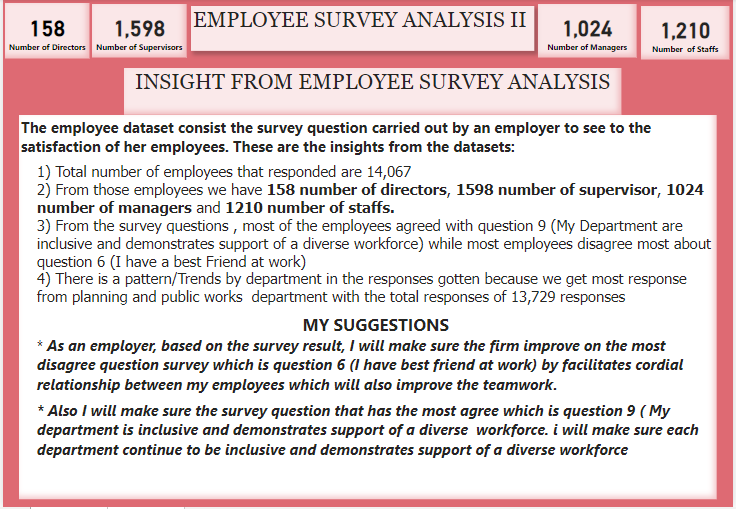

The dashboard page shown, as its layout file describes it:
{"tool":"powerbi","page":{"name":"Page 2","canvas":[1840,1280],"ordinal":1},"visuals":[{"type":"textbox","box":[472.5,17.5,865,112.5],"z":0},{"type":"card","fields":{"Values":["CountNonNull(HR Survey Reponses.Supervisor)"]},"box":[225,12.5,237.5,135],"z":1000},{"type":"card","fields":{"Values":["CountNonNull(HR Survey Reponses.Director)"]},"box":[5,10,212.5,140],"z":2000},{"type":"card","fields":{"Values":["CountNonNull(HR Survey Reponses.Manager)"]},"box":[1347.5,12.5,247.5,135],"z":3000},{"type":"card","fields":{"Values":["CountNonNull(HR Survey Reponses.Staff)"]},"box":[1607.5,17.5,222.5,135],"z":4000},{"type":"textbox","box":[305,175,1252.5,117.5],"z":5000},{"type":"textbox","box":[40,292.5,1757.5,967.5],"z":6000}]}

Visuals, with their boxes in screenshot pixels (x1, y1, x2, y2), scaled from the page's 1840x1280 canvas onto the 736x509 screenshot:
textbox: [x1=189, y1=7, x2=535, y2=52]
card - CountNonNull(HR Survey Reponses.Supervisor): [x1=90, y1=5, x2=185, y2=59]
card - CountNonNull(HR Survey Reponses.Director): [x1=2, y1=4, x2=87, y2=60]
card - CountNonNull(HR Survey Reponses.Manager): [x1=539, y1=5, x2=638, y2=59]
card - CountNonNull(HR Survey Reponses.Staff): [x1=643, y1=7, x2=732, y2=61]
textbox: [x1=122, y1=70, x2=623, y2=116]
textbox: [x1=16, y1=116, x2=719, y2=501]
